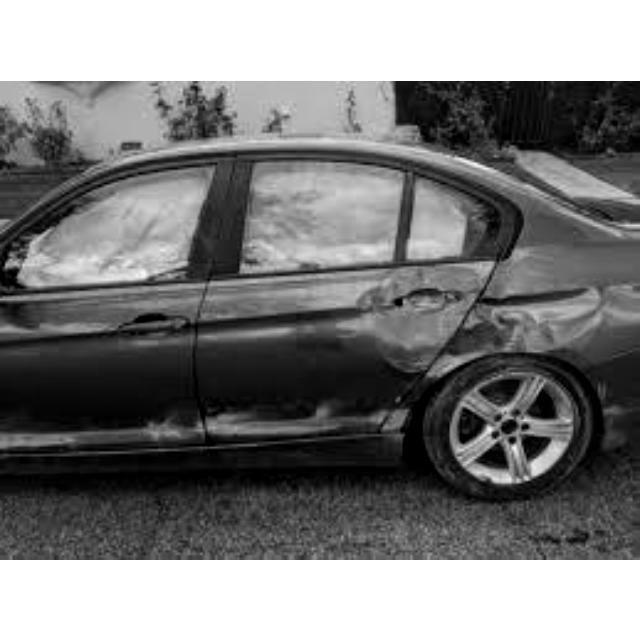Runningboard-Damage: (0, 435, 416, 480)
Sidemirror-Damage: (0, 218, 62, 319)
doorouter-dent: (223, 174, 486, 431)
quaterpanel-dent: (491, 248, 640, 416)
